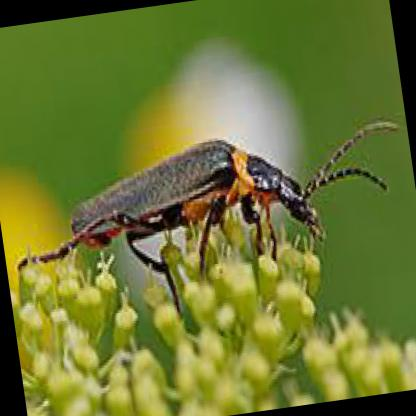blister beetle: (16, 118, 395, 263)
